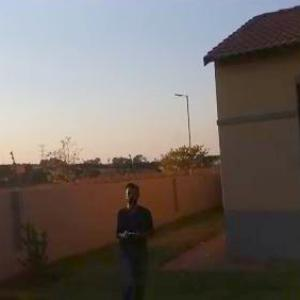follow: (107, 174, 160, 299)
